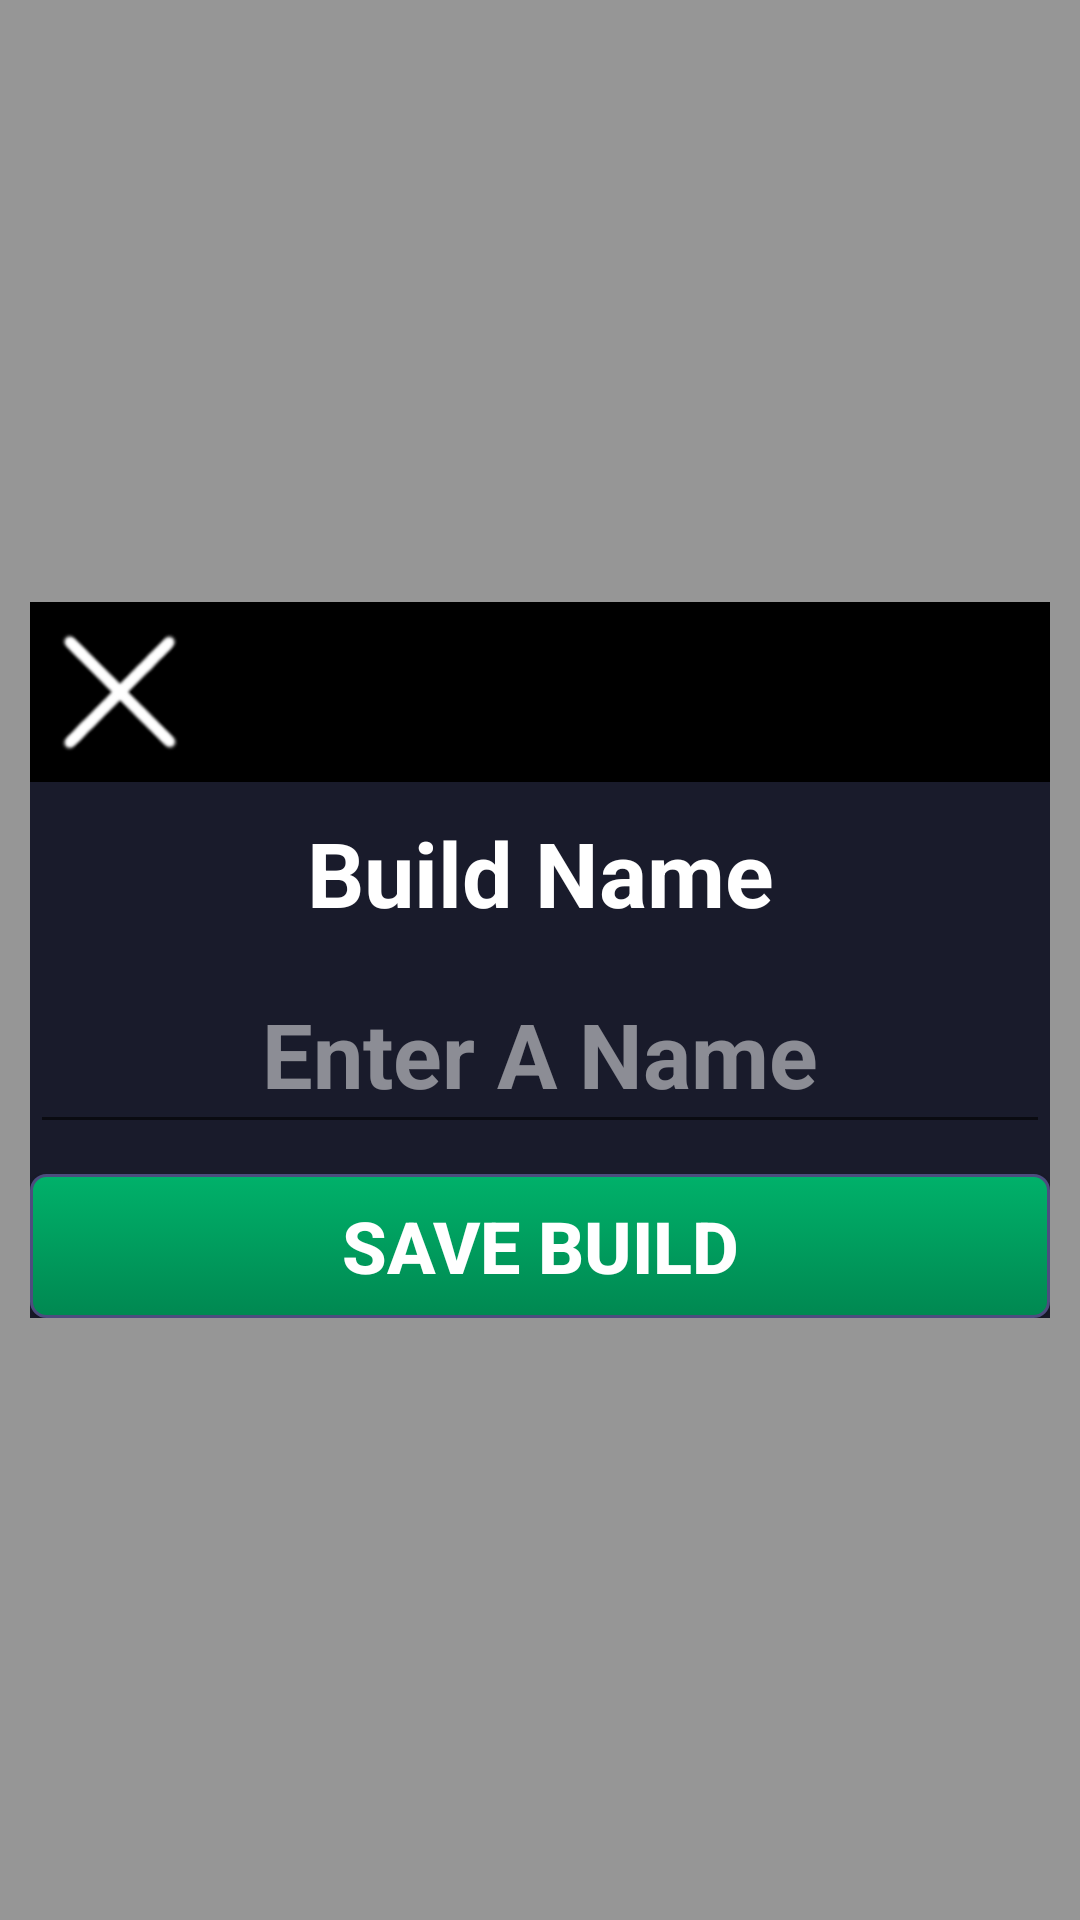

Locate icon controls on the screen. Image size 1080×1920, boxes as (x1, y1, x2, y2).
close mark: (62, 634, 177, 750)
